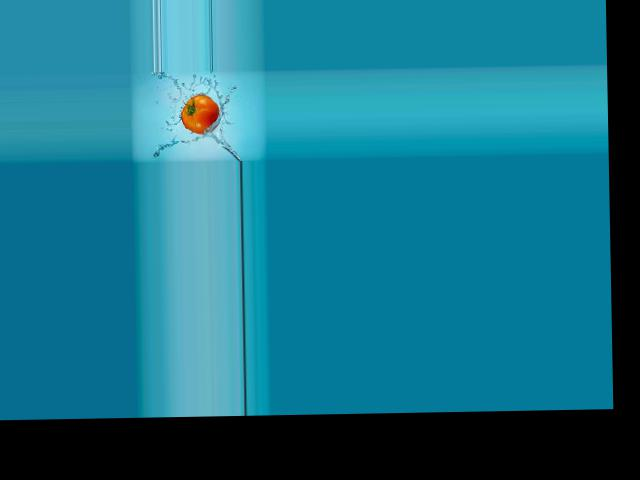tomato: (181, 93, 220, 134)
